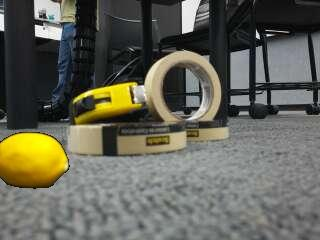lemon: (1, 134, 69, 188)
